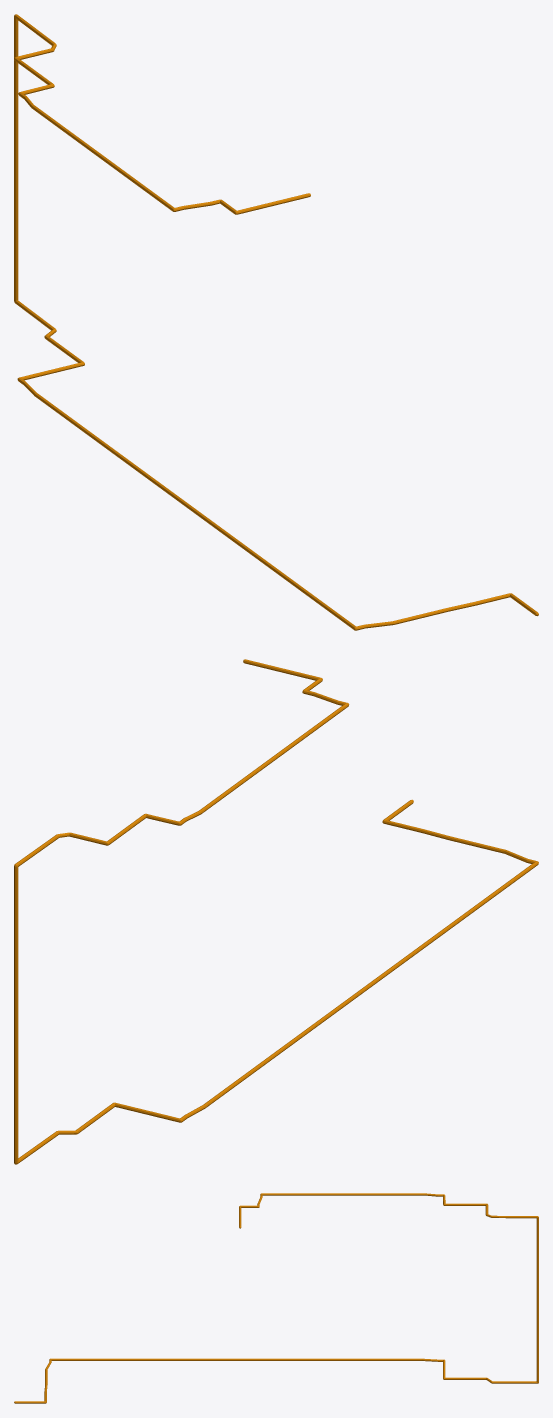
The picture shows the model from 3 angles, top to bottom: view 1: azimuth 30°, elevation 25°; view 2: azimuth 150°, elevation 25°; view 3: azimuth 270°, elevation 25°; orthographic projection. The views are drawn at different scales.
Bounding box in the file's own units: 849 × 1520 × 4315.
